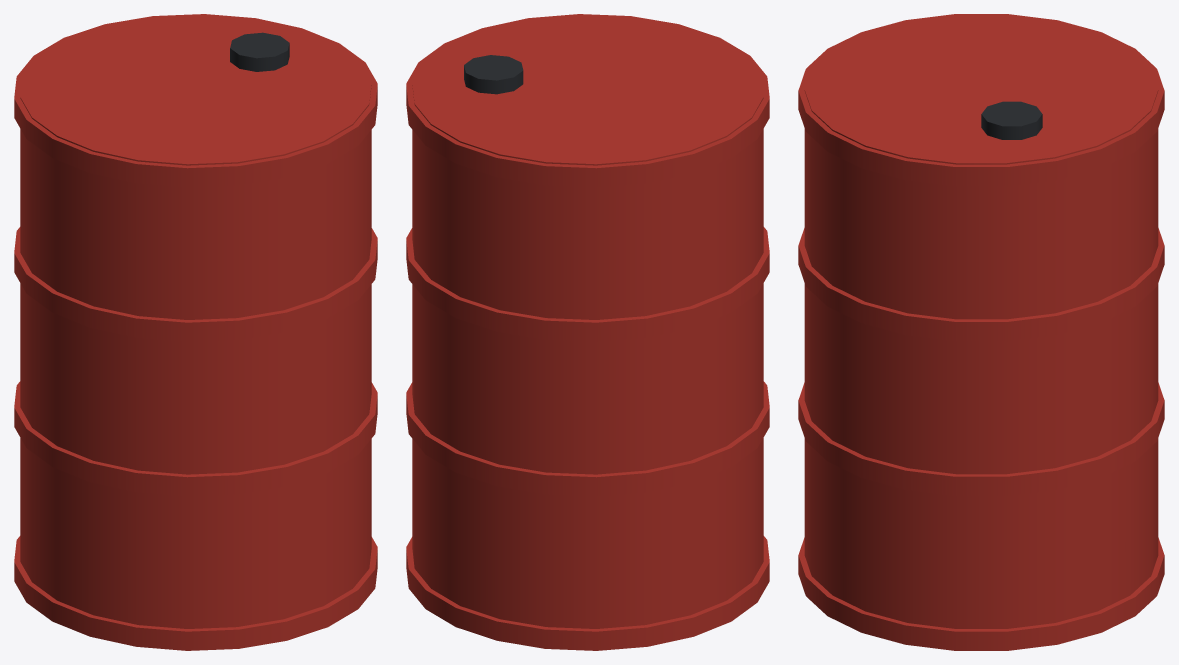
Rendered from tambor_rojo.glb.
The picture shows the model from 3 angles, left to right: view 1: azimuth 30°, elevation 25°; view 2: azimuth 150°, elevation 25°; view 3: azimuth 270°, elevation 25°; orthographic projection.
Visible parts, largest first — view 1: tambor_rojo; view 2: tambor_rojo; view 3: tambor_rojo.
Part boxes in pixels (x1,y1,x2,y2): tambor_rojo: (14,14,377,650); tambor_rojo: (406,14,769,650); tambor_rojo: (798,14,1164,650).
Bounding box in the file's own units: 0.5939 × 0.905 × 0.6.
